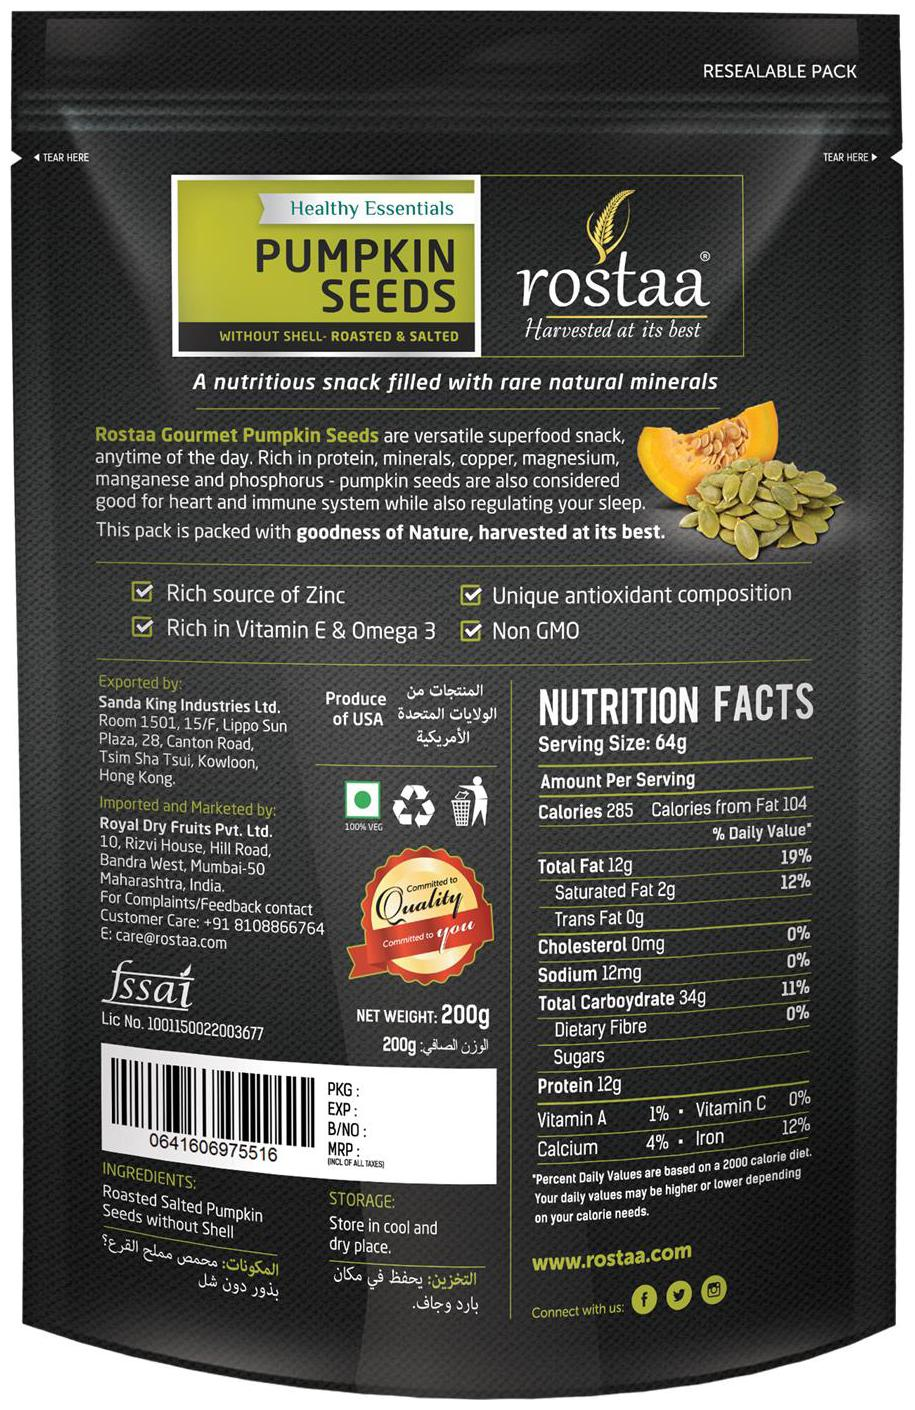fsaai: (97, 957, 198, 1013)
